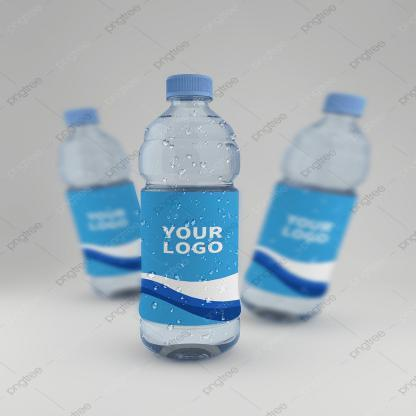bottle: (237, 80, 381, 321), (137, 66, 253, 362), (46, 101, 146, 289)
